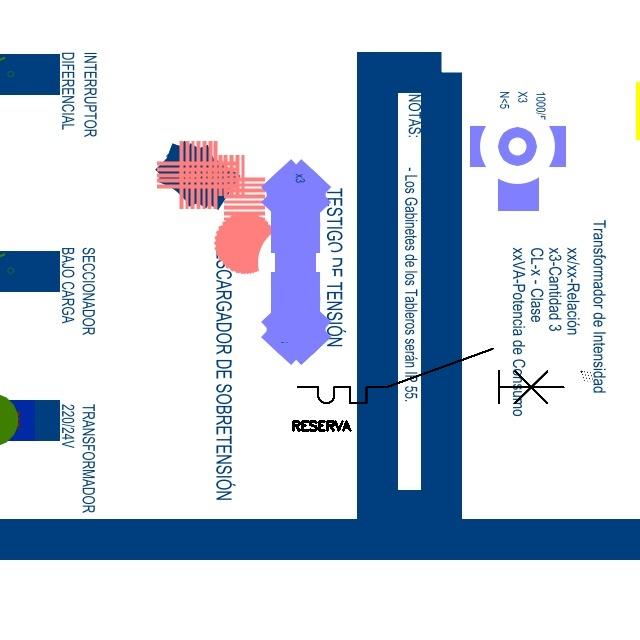interruptor_termomagnetico: (291, 342, 570, 410)
